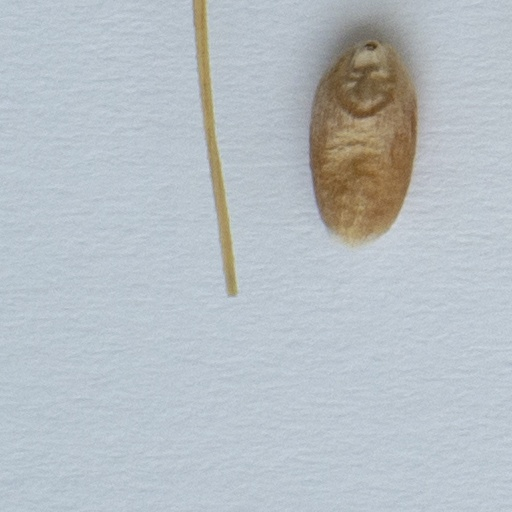Peel-poly: (184, 0, 240, 306)
